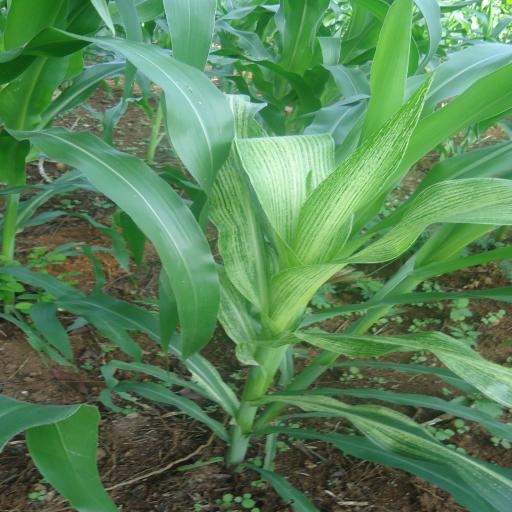Corn_Streak: (223, 75, 512, 379)
